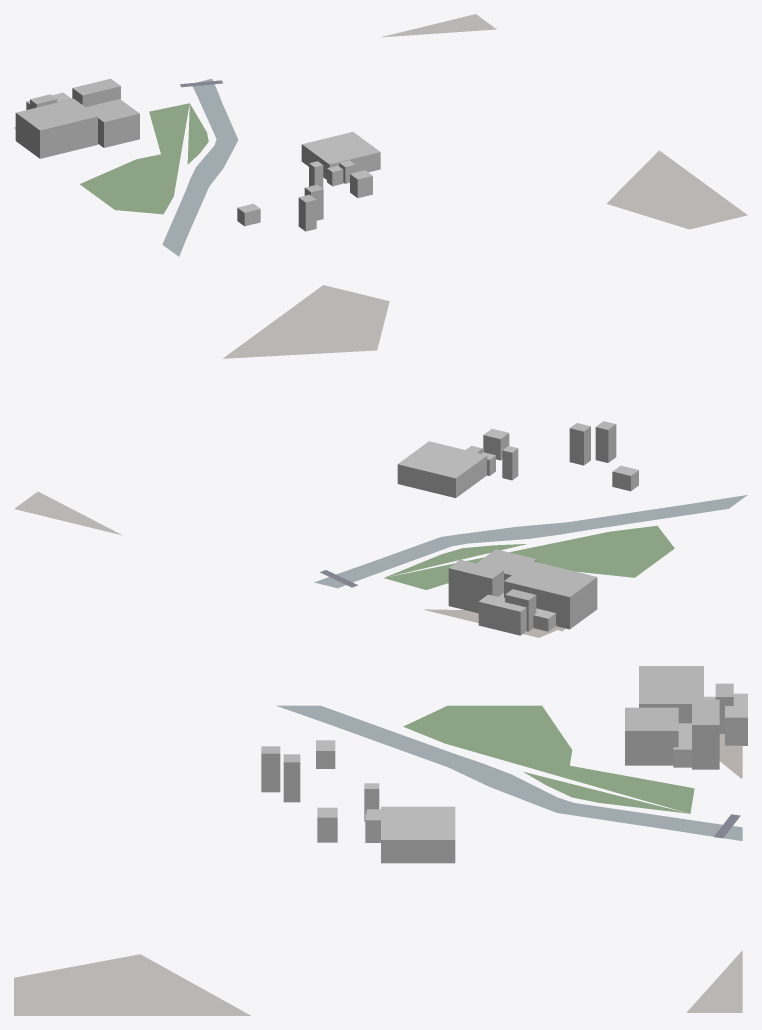
File: 136_111_mid.glb
The picture shows the model from 3 angles, top to bottom: view 1: azimuth 30°, elevation 25°; view 2: azimuth 150°, elevation 25°; view 3: azimuth 270°, elevation 25°; orthographic projection. The views are drawn at different scales.
Size of the model in its own units: 504 by 35.45 by 504.
